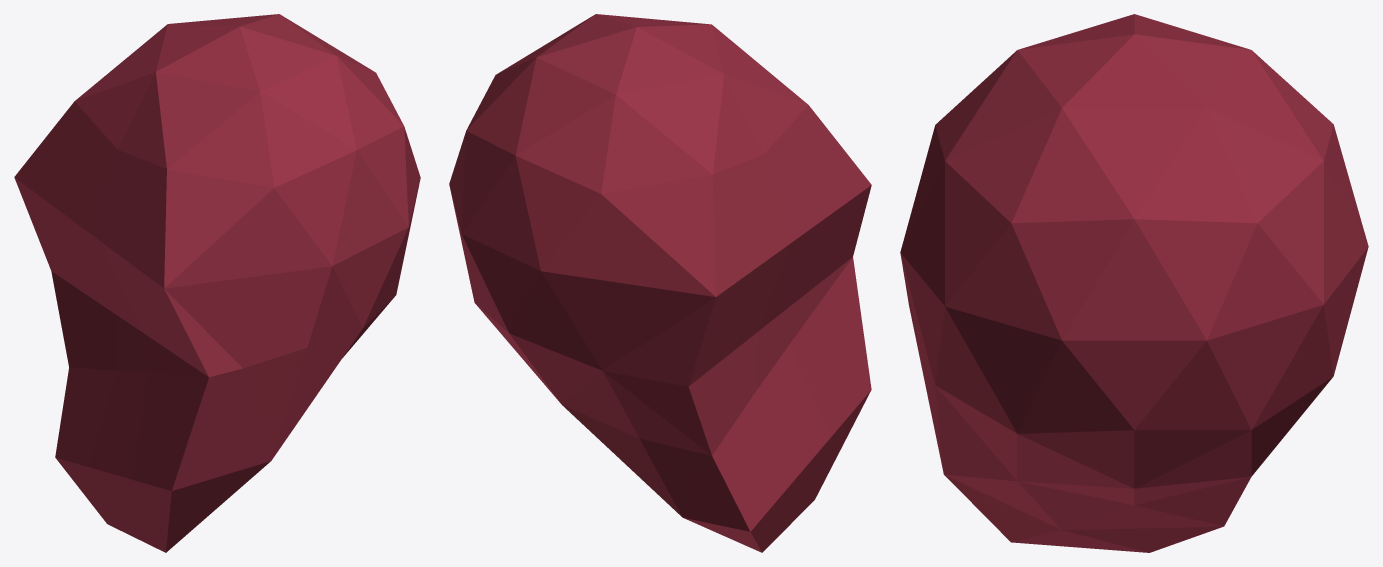
Rendered from heart_half.glb.
3 views of the same model, side by side, from view 1: azimuth 30°, elevation 25°; view 2: azimuth 150°, elevation 25°; view 3: azimuth 270°, elevation 25° (orthographic). The views are drawn at different scales.
Parts seen in each view (by area): view 1: Heart_Half; view 2: Heart_Half; view 3: Heart_Half.
Boxes of the visible parts, x1=… form: Heart_Half: x1=14, y1=14, x2=420, y2=552; Heart_Half: x1=449, y1=14, x2=871, y2=552; Heart_Half: x1=900, y1=14, x2=1368, y2=552.
Size of the model in its own units: 0.5426 by 0.8057 by 0.5728.
